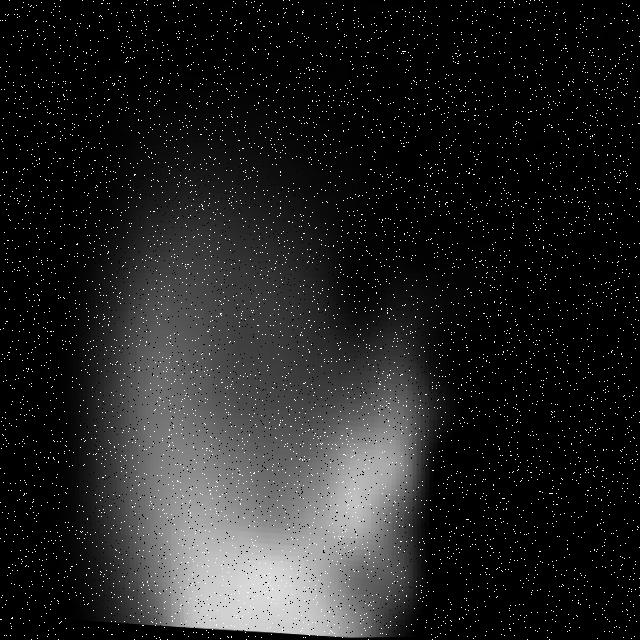person: (51, 171, 474, 640)
